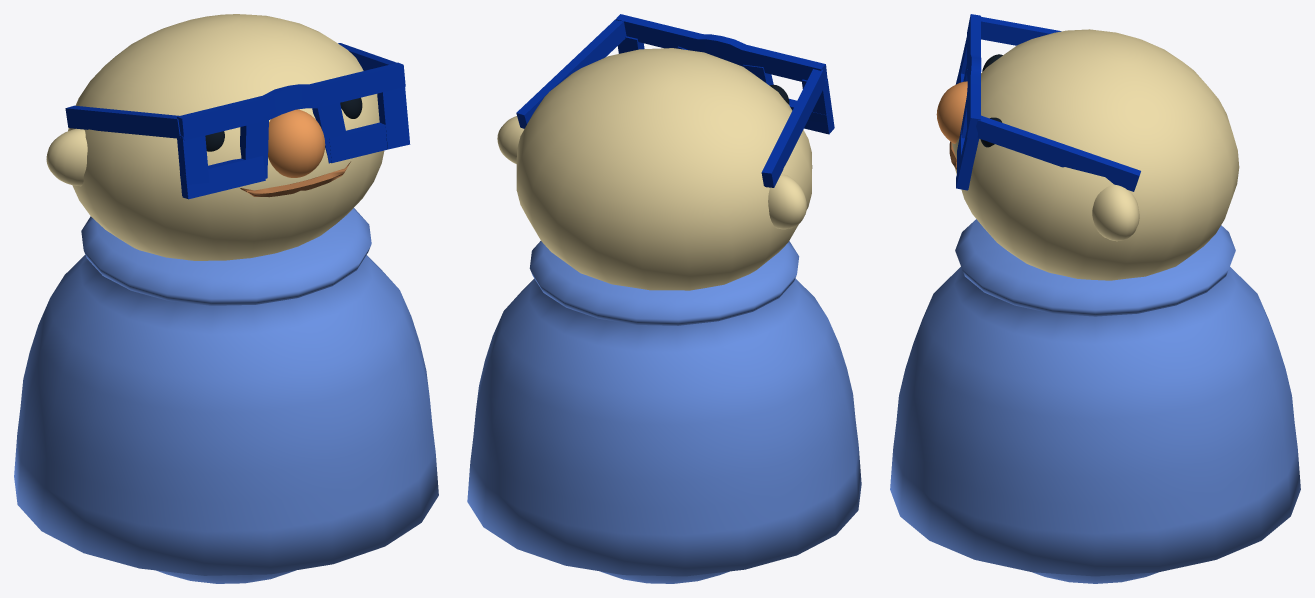
Rendered from NPC3.fbx.
The picture shows the model from 3 angles, left to right: view 1: azimuth 30°, elevation 25°; view 2: azimuth 150°, elevation 25°; view 3: azimuth 270°, elevation 25°; orthographic projection. The views are drawn at different scales.
Visible parts, largest first — view 1: pSphere9; view 2: pSphere9; view 3: pSphere9.
Boxes of the visible parts, x1,y1,x2,y2 form: pSphere9: (14, 14, 438, 583); pSphere9: (467, 14, 861, 583); pSphere9: (890, 14, 1300, 583).
Size of the model in its own units: 1.99 by 2.77 by 1.99.
